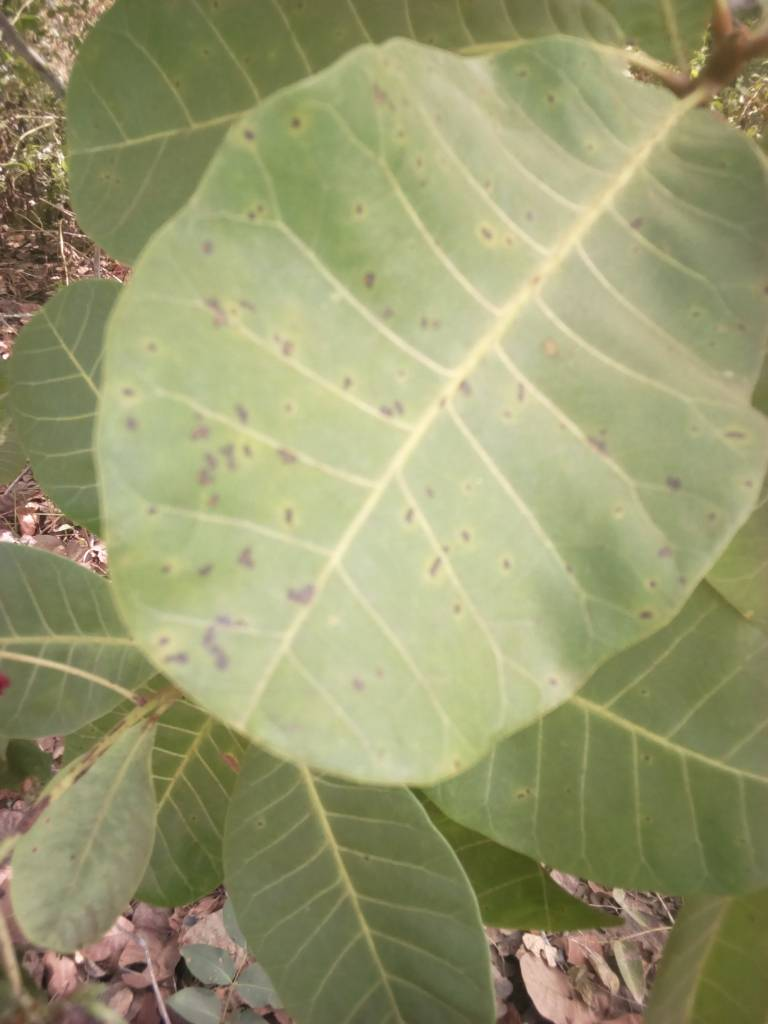Anthracnose: (90, 77, 757, 778)
